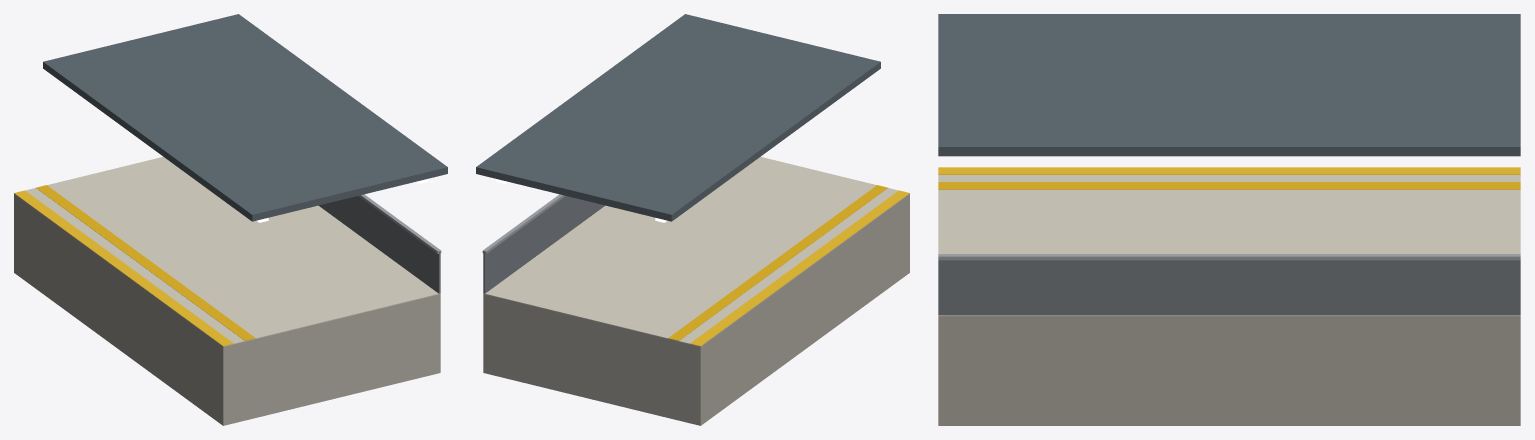
The model's file is PlatformOpen.glb.
3 renders of one model, left to right at view 1: azimuth 30°, elevation 25°; view 2: azimuth 150°, elevation 25°; view 3: azimuth 270°, elevation 25°, orthographic. The views are drawn at different scales.
Visible parts, largest first — view 1: PlatformOpen; view 2: PlatformOpen; view 3: PlatformOpen.
Boxes of the visible parts, left/top/right/bottom form: PlatformOpen: left=14, top=14, right=447, bottom=425; PlatformOpen: left=476, top=14, right=909, bottom=425; PlatformOpen: left=938, top=14, right=1520, bottom=425.
Bounding box in the file's own units: 6.2 × 5.38 × 10.
